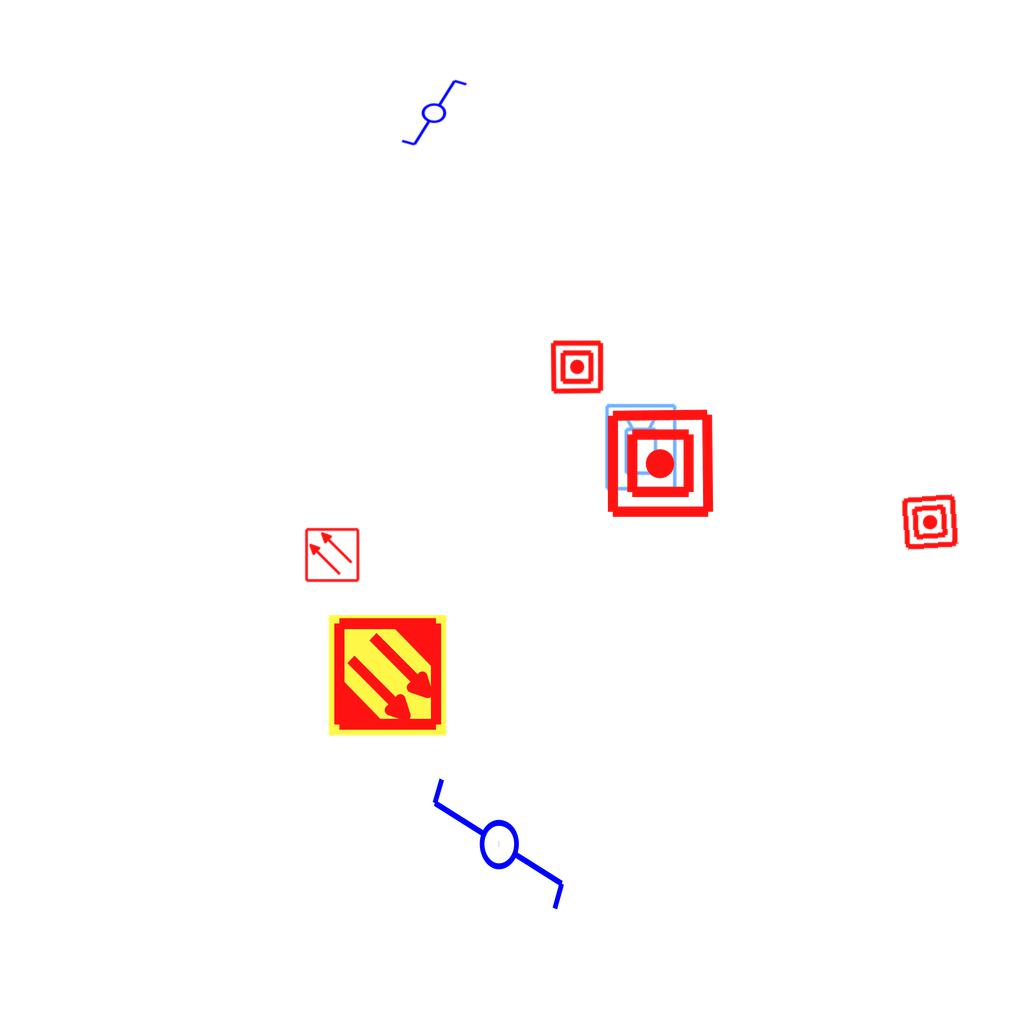ASR_Ansaugrauchmelder: (325, 613, 450, 738)
KFO_Kamera_mit_Festobjektiv: (603, 402, 680, 493)
NAM-Nichtautomatischer_Melder: (604, 407, 717, 520), (900, 492, 960, 552), (549, 339, 605, 395)
RMO_Rauchmelder_optischer: (304, 527, 360, 583)
Wechselschalter: (425, 774, 569, 931), (391, 76, 469, 148)
